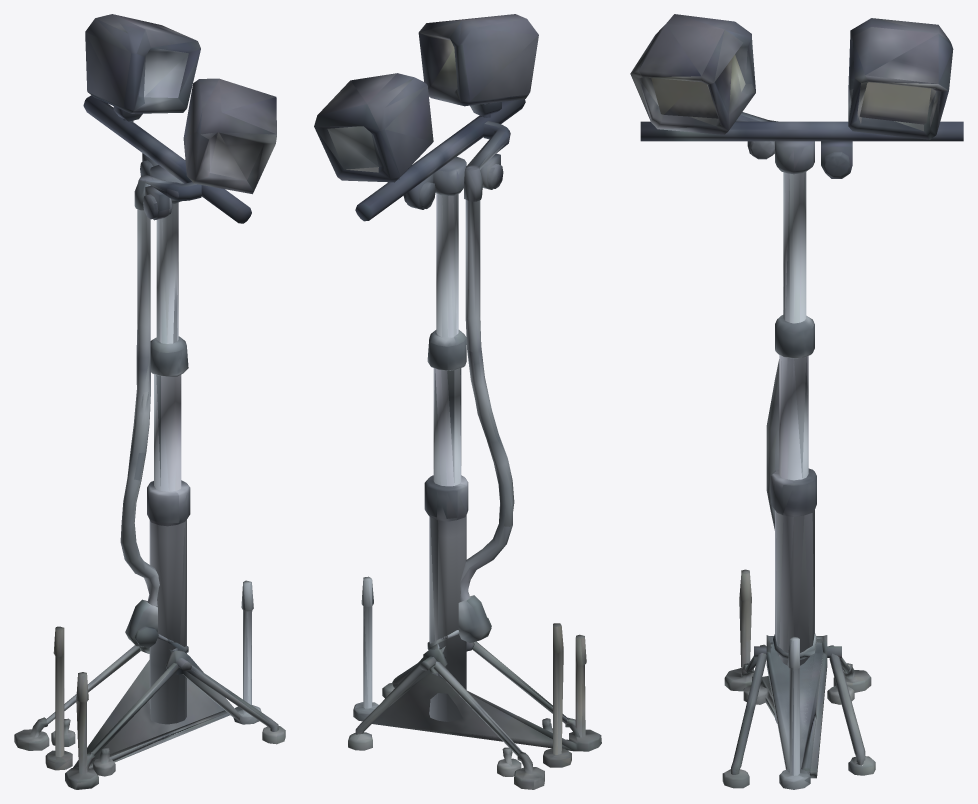
The model's file is 整備庫_14_照明塔B.glb.
3 renders of one model, left to right at view 1: azimuth 30°, elevation 25°; view 2: azimuth 150°, elevation 25°; view 3: azimuth 270°, elevation 25°, orthographic. The views are drawn at different scales.
Visible parts, largest first — view 1: 14_照明塔B; view 2: 14_照明塔B; view 3: 14_照明塔B.
Part boxes in pixels (bbox=[...]): 14_照明塔B: bbox=[14, 14, 285, 789]; 14_照明塔B: bbox=[314, 14, 601, 789]; 14_照明塔B: bbox=[630, 14, 963, 789].
Size of the model in its own units: 0.062 by 0.1855 by 0.0776.
1 material, 1 textured.
